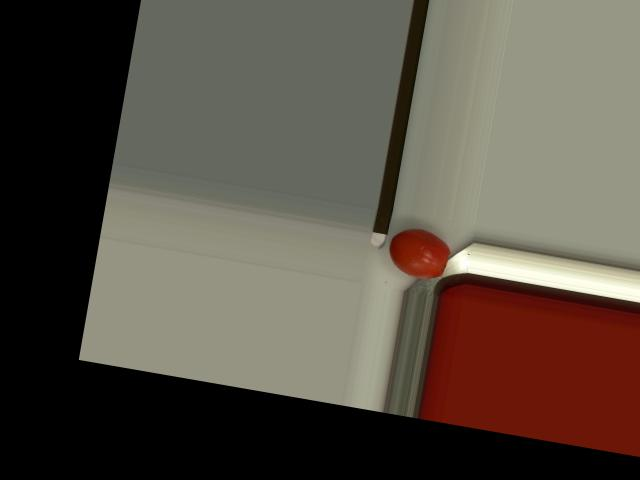tomato: (385, 224, 453, 282)
